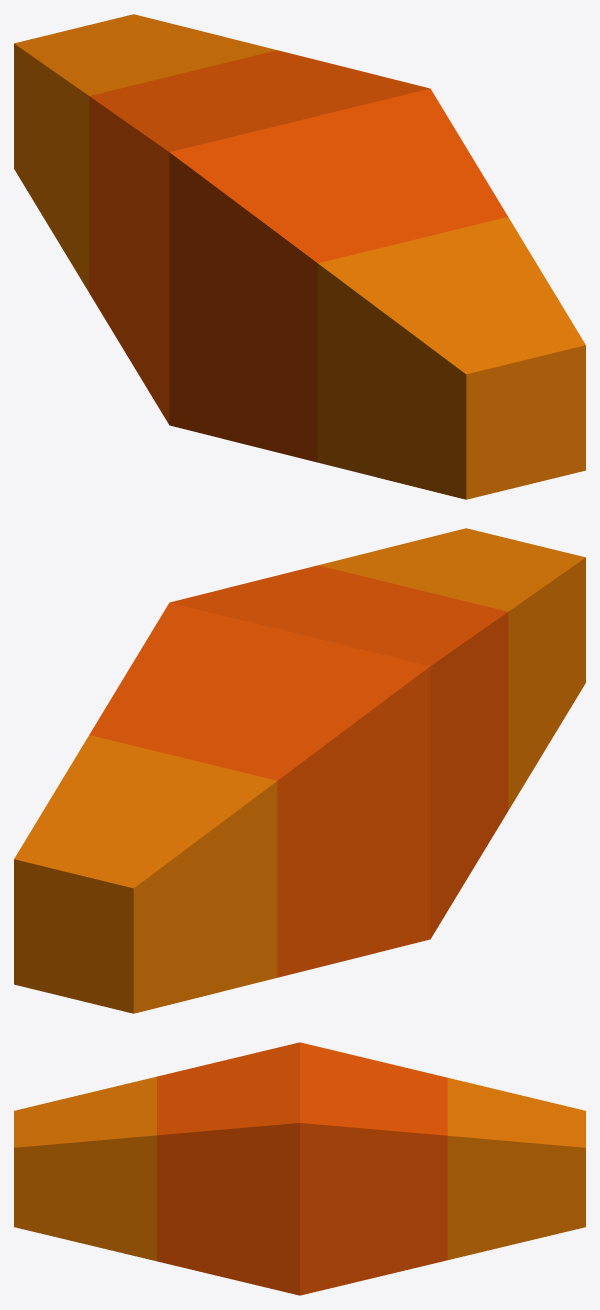
The model's file is 魔法子弹small.fbx.
3 renders of one model, top to bottom at view 1: azimuth 30°, elevation 25°; view 2: azimuth 150°, elevation 25°; view 3: azimuth 270°, elevation 25°, orthographic. The views are drawn at different scales.
Visible parts, largest first — view 1: Cube; view 2: Cube; view 3: Cube.
Boxes of the visible parts, box(x1,y1,x2,y2) form: Cube: box(14, 14, 585, 499); Cube: box(14, 528, 585, 1013); Cube: box(14, 1042, 585, 1295).
Bounding box in the file's own units: 10 × 30 × 10.
